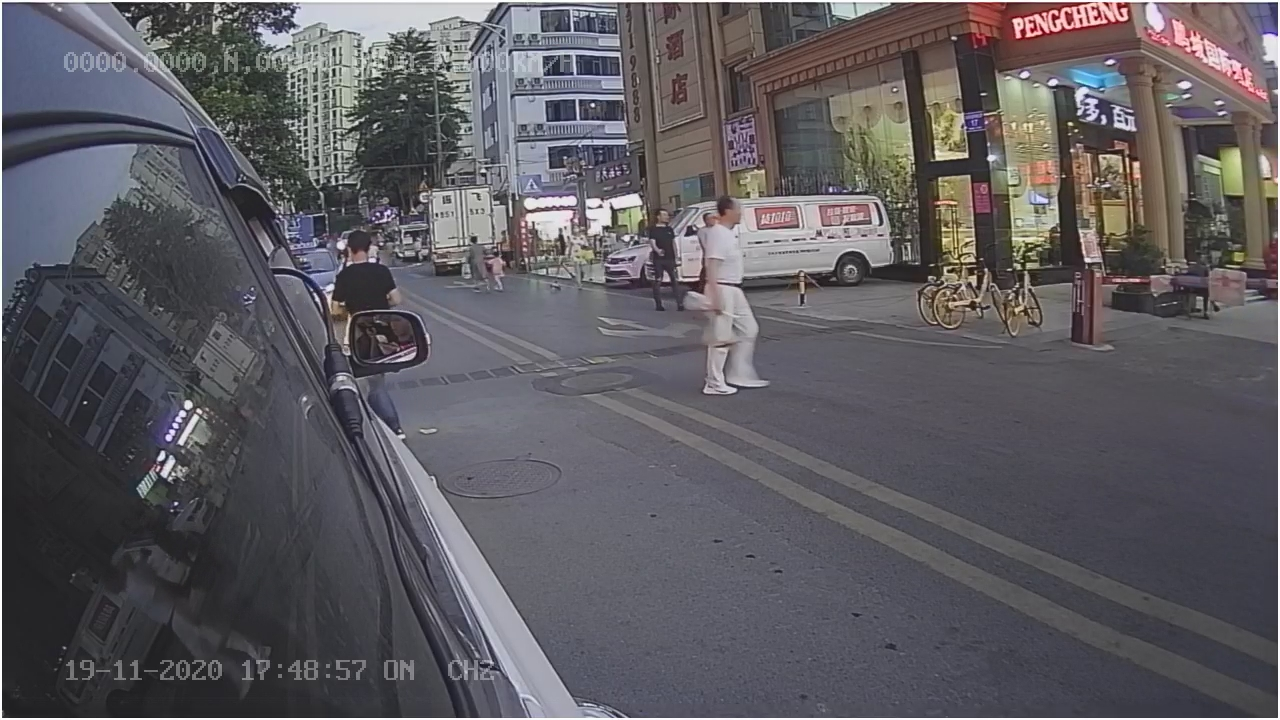person: (686, 196, 782, 404)
